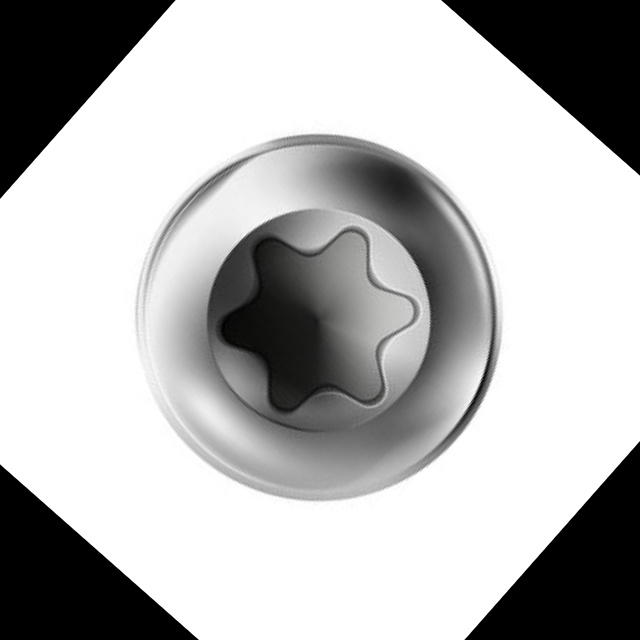torx: (60, 57, 579, 577)
